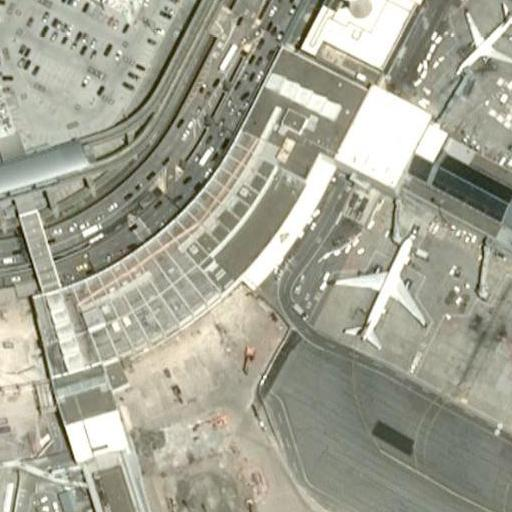Aircraft: (329, 228, 427, 351), (452, 1, 512, 78)
